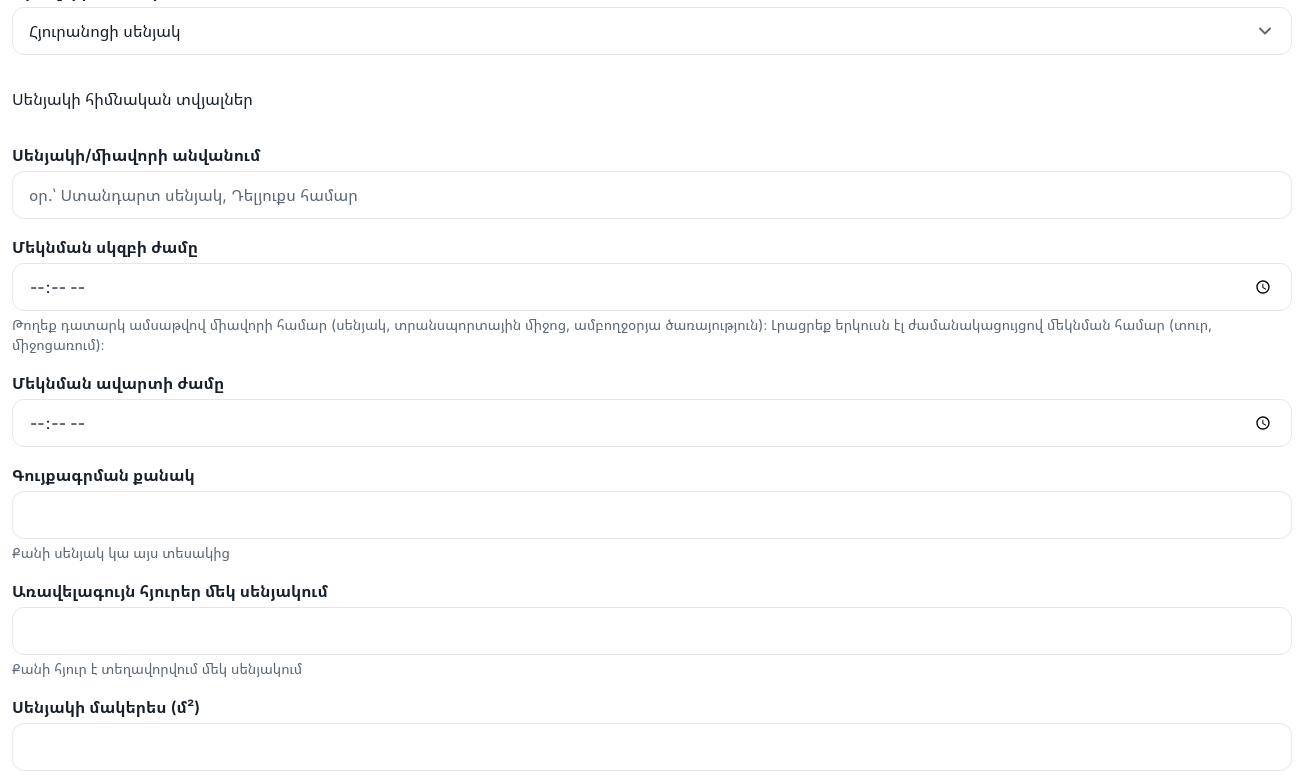
Scenario: BookableUnitForm (P2.2A) › filling only one of start/end shows an incomplete warning and disables submit
Type "09:00" into the time field labelled "Մեկնման սկզբի ժամը".
click(652, 287); type("09:00")  # box top-left (29, 264), bottom-right (1275, 310)
(page scrolled)
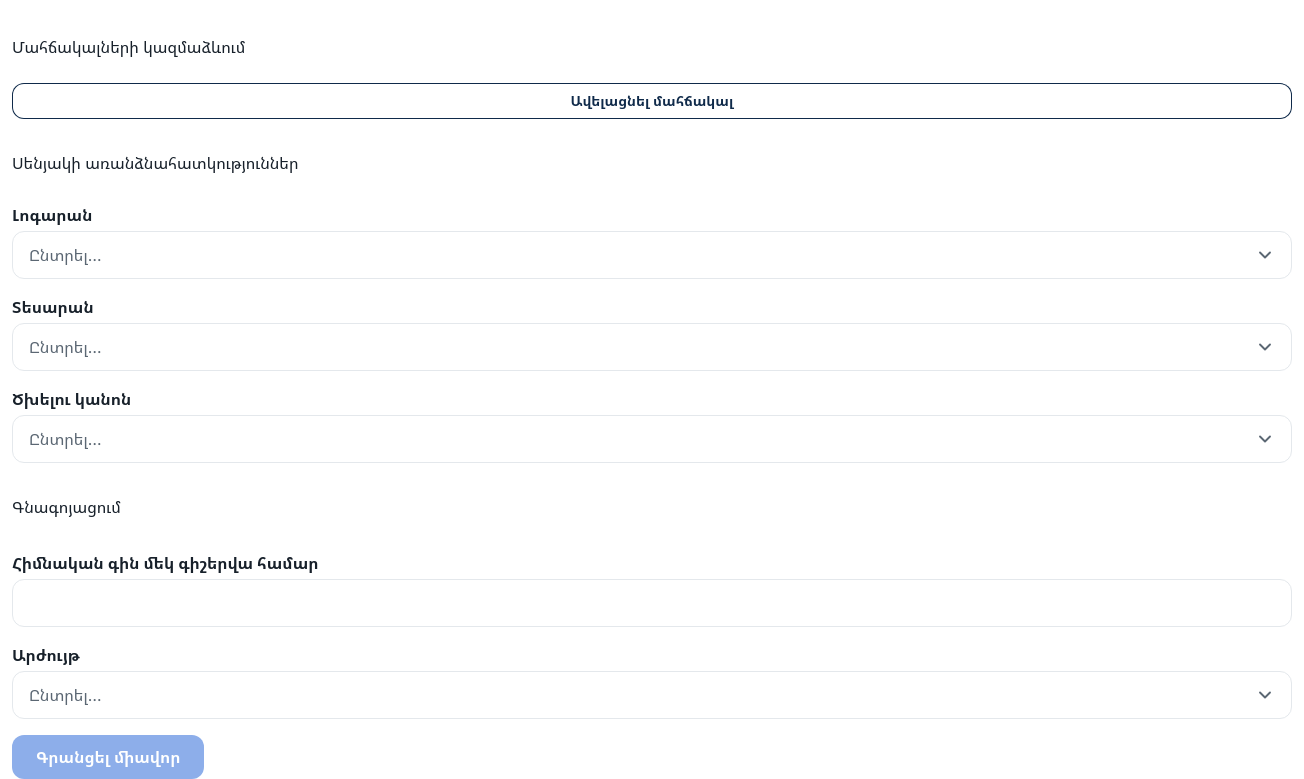
Check: the button "Գրանցել միավոր" is disabled, box top-left (12, 735), bottom-right (204, 778)
